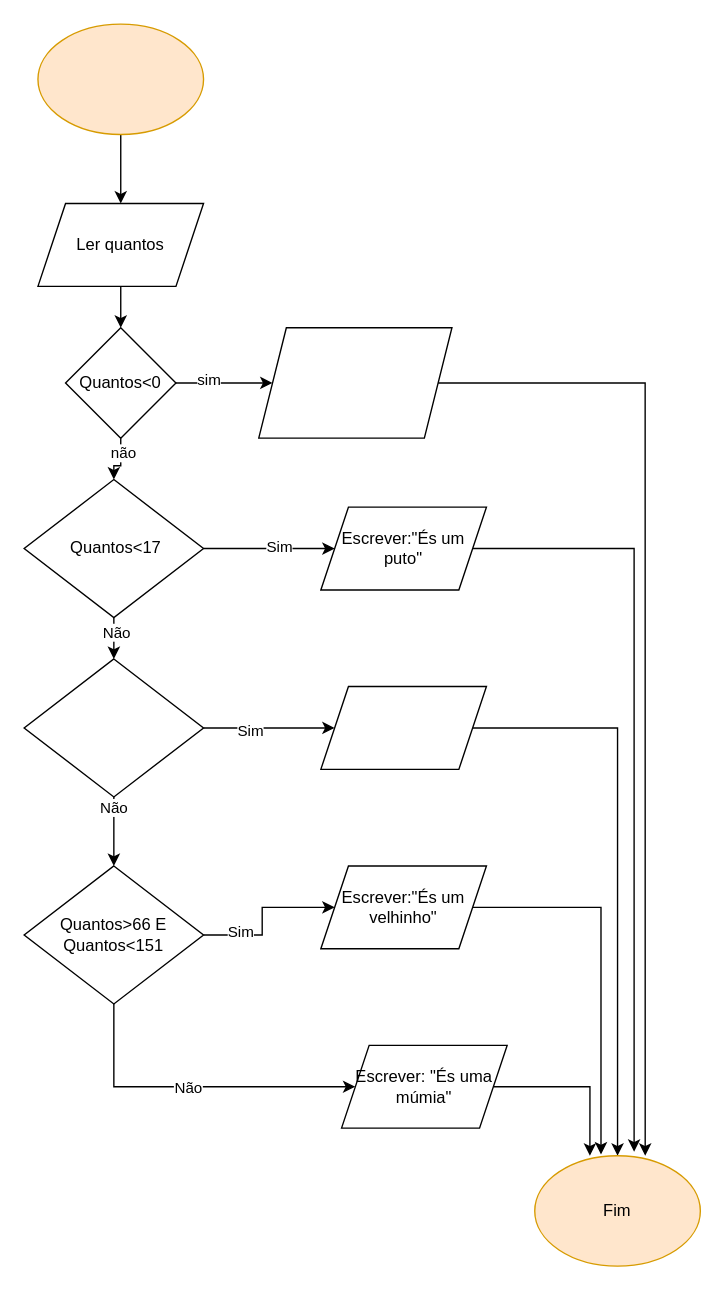
The diagram is 725 pixels wide and 1290 high, and some of its shapes have lost their labels. The shapes that lost their labels are listed below. From the top down, each one's centre as x and y in pixels, then its label:
the point at 120,79: Início
the point at 354,382: Escrever: " A tua inteligência também é negativa "
the point at 113,727: Quantos>18 E Quantos<65
the point at 402,727: Escrever:"És adulto"
